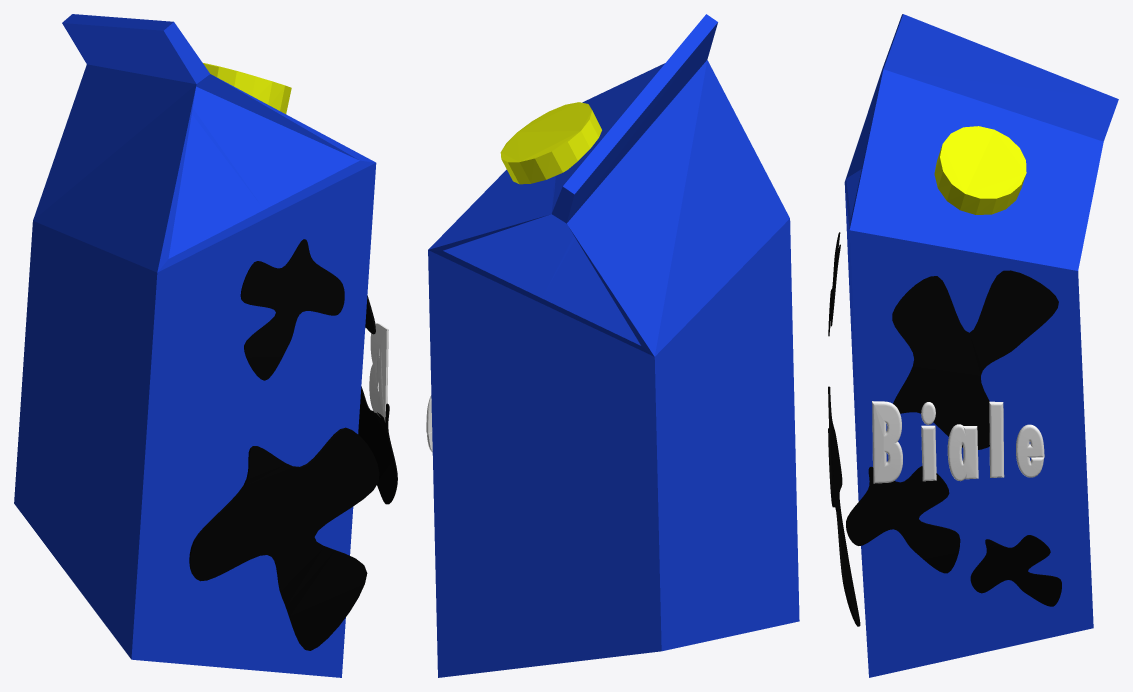
Rendered from bend_medium_0.obj.
3 renders of one model, left to right at view 1: azimuth 30°, elevation 25°; view 2: azimuth 150°, elevation 25°; view 3: azimuth 270°, elevation 25°, orthographic. The views are drawn at different scales.
Visible parts, largest first — view 1: model; view 2: model; view 3: model.
Boxes of the visible parts, bbox=[...] form: model: bbox=[14, 14, 397, 677]; model: bbox=[426, 14, 799, 677]; model: bbox=[828, 14, 1118, 677].
Bounding box in the file's own units: 0.0939 × 0.2287 × 0.1005.
1 material, 1 textured.
